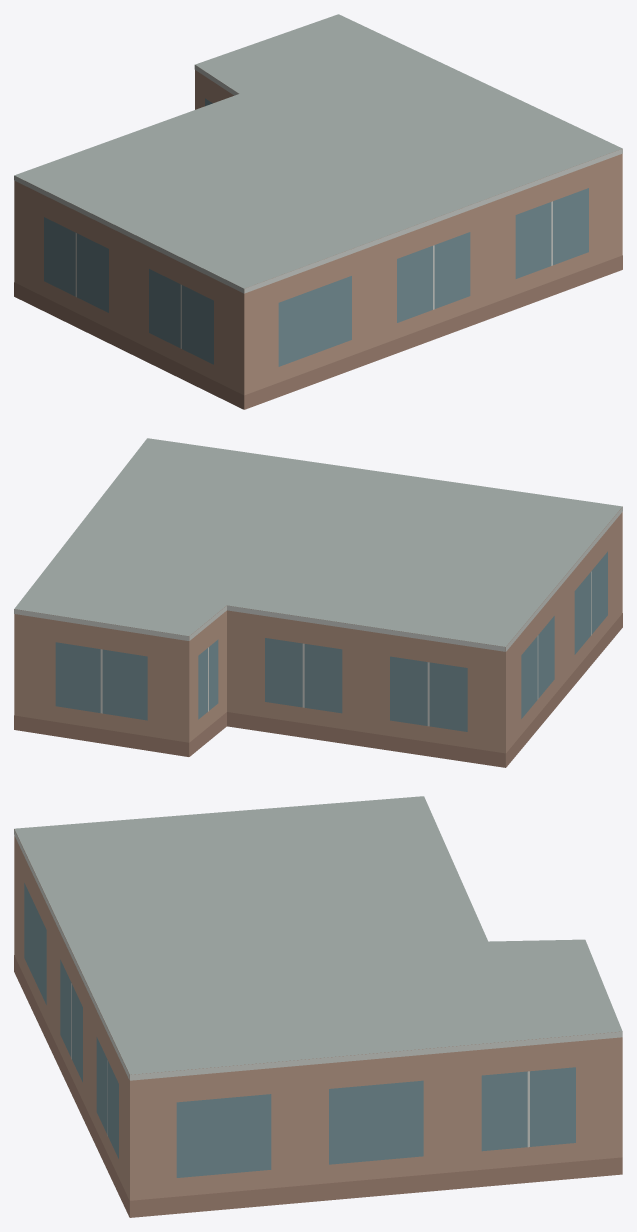
File: survey-upis-32613768.glb
The picture shows the model from 3 angles, top to bottom: view 1: azimuth 30°, elevation 25°; view 2: azimuth 150°, elevation 25°; view 3: azimuth 270°, elevation 25°; orthographic projection. The views are drawn at different scales.
Parts seen in each view (by area): view 1: survey-upis-32613768.tmp; view 2: survey-upis-32613768.tmp; view 3: survey-upis-32613768.tmp.
Boxes of the visible parts, x1,y1,x2,y2 form: survey-upis-32613768.tmp: (14,14,622,409); survey-upis-32613768.tmp: (14,438,622,767); survey-upis-32613768.tmp: (14,796,622,1217).
Size of the model in its own units: 12.77 by 3.05 by 11.78.
